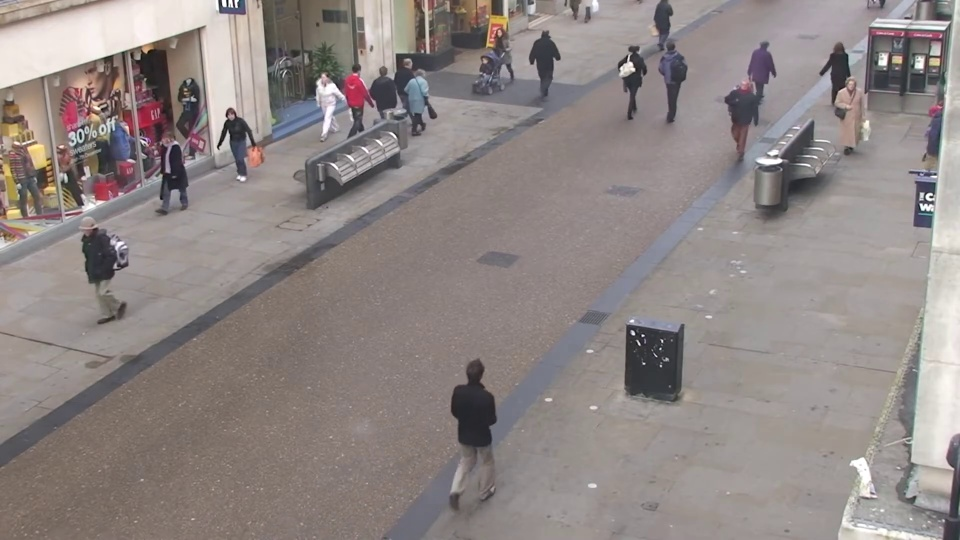pedestrian: (462, 338, 512, 490), (58, 217, 113, 337), (144, 130, 185, 227), (211, 109, 247, 201), (830, 77, 866, 164), (725, 76, 756, 161), (818, 38, 851, 115), (308, 67, 338, 148), (411, 62, 440, 143), (374, 61, 403, 141), (346, 57, 375, 136), (467, 54, 495, 133), (398, 53, 426, 131), (751, 35, 779, 109), (658, 38, 684, 113), (624, 38, 649, 113), (483, 26, 508, 96), (538, 22, 562, 92)
